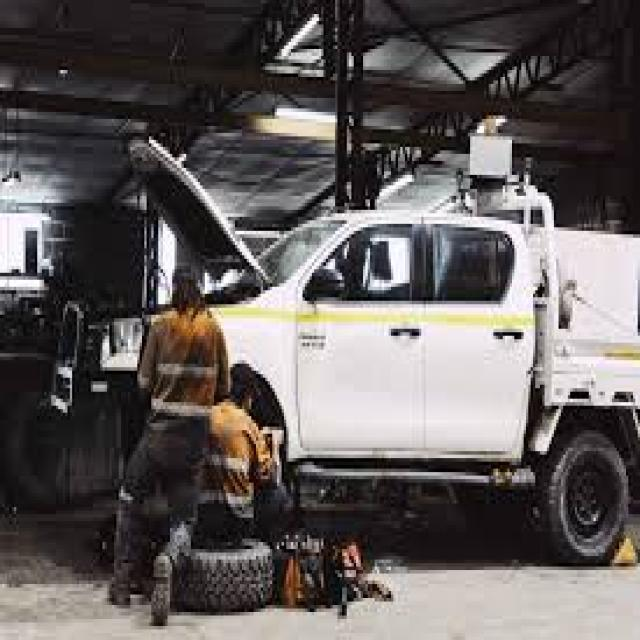light_vehicle: (68, 109, 638, 616)
